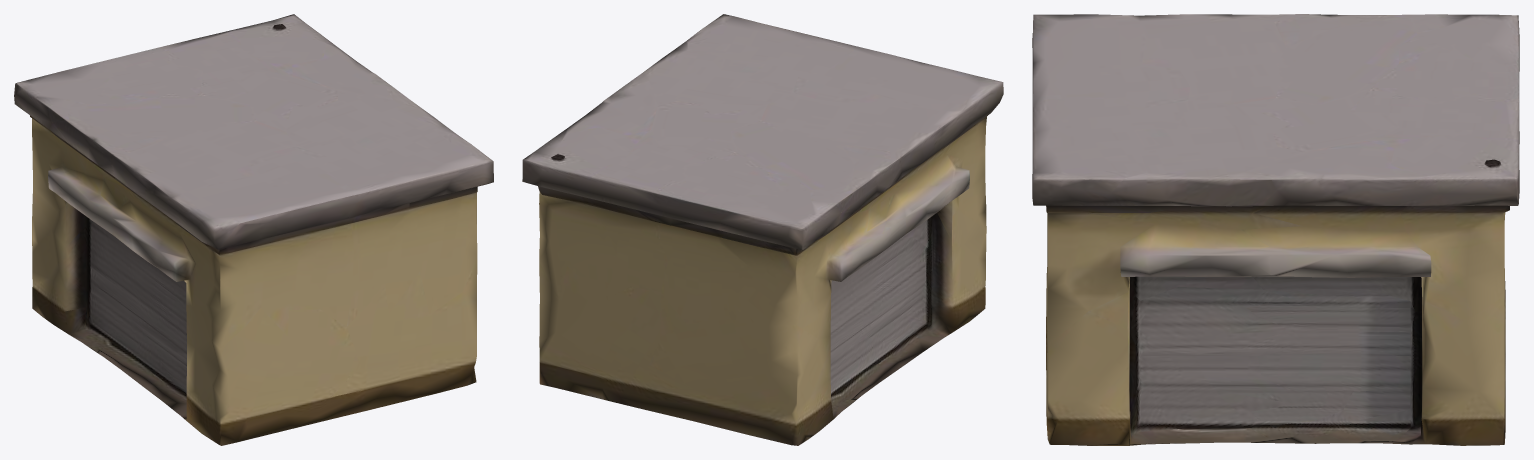
Rendered from garage.glb.
The picture shows the model from 3 angles, left to right: view 1: azimuth 30°, elevation 25°; view 2: azimuth 150°, elevation 25°; view 3: azimuth 270°, elevation 25°; orthographic projection. The views are drawn at different scales.
Parts seen in each view (by area): view 1: tripo_node_9ff6751b-58a6-4c74-a8f0-5f55f2888b44; view 2: tripo_node_9ff6751b-58a6-4c74-a8f0-5f55f2888b44; view 3: tripo_node_9ff6751b-58a6-4c74-a8f0-5f55f2888b44.
Boxes of the visible parts, x1,y1,x2,y2 form: tripo_node_9ff6751b-58a6-4c74-a8f0-5f55f2888b44: (14, 14, 493, 445); tripo_node_9ff6751b-58a6-4c74-a8f0-5f55f2888b44: (522, 14, 1003, 445); tripo_node_9ff6751b-58a6-4c74-a8f0-5f55f2888b44: (1032, 14, 1519, 445).
Size of the model in its own units: 0.8211 by 0.6216 by 1.
Materials: 1 (1 with a texture image).
